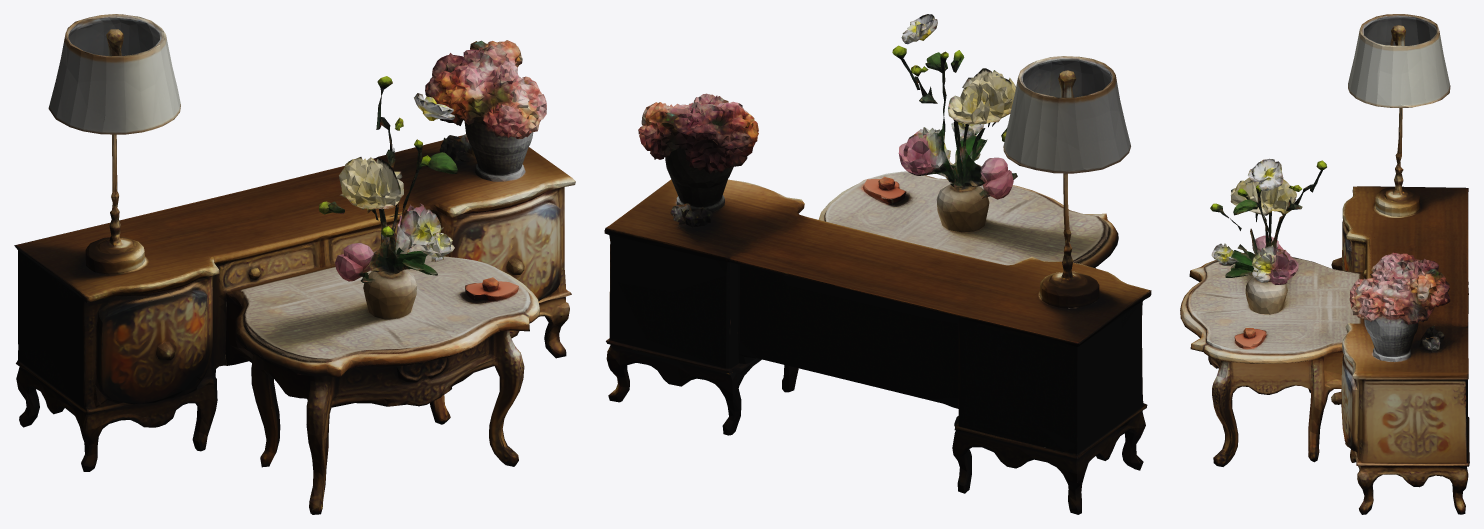
File: pressed-flower-memory-game-aged-hyperrealistic-furniture.jpeg.glb
3 views of the same model, side by side, from view 1: azimuth 30°, elevation 25°; view 2: azimuth 150°, elevation 25°; view 3: azimuth 270°, elevation 25° (orthographic). The views are drawn at different scales.
Visible parts, largest first — view 1: world; view 2: world; view 3: world.
Part boxes in pixels (bbox=[...]): world: bbox=[14, 14, 575, 514]; world: bbox=[604, 14, 1151, 514]; world: bbox=[1180, 14, 1469, 514].
Size of the model in its own units: 1 by 0.8265 by 0.653.
1 material, 1 textured.
